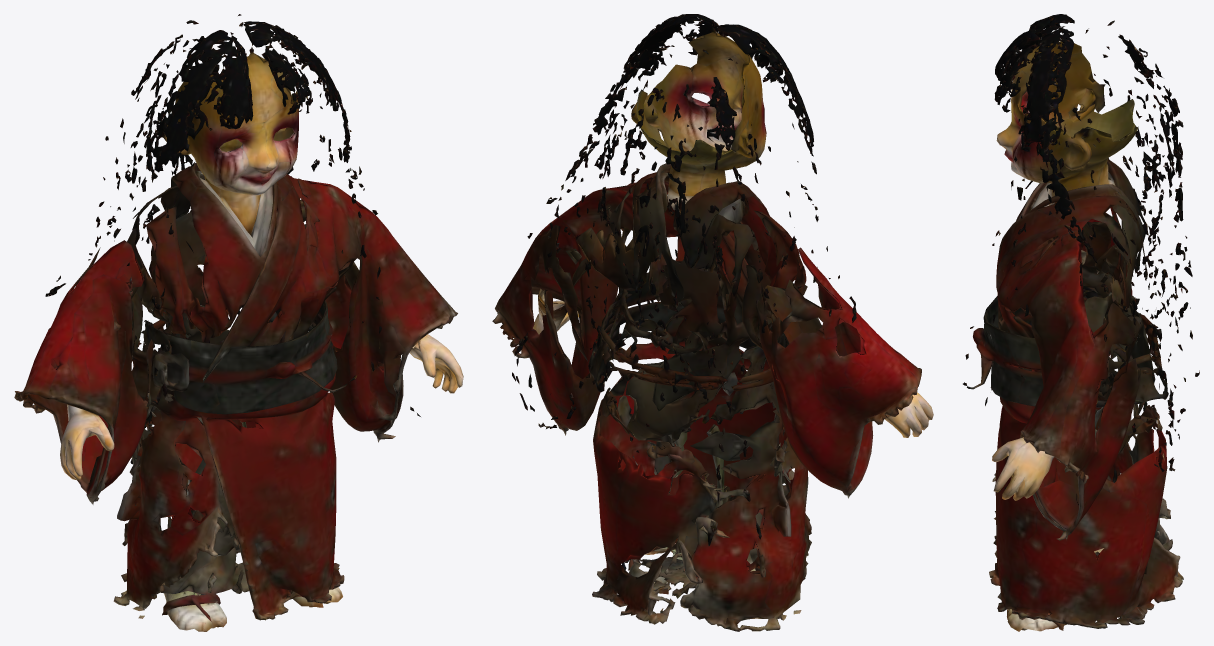
File: doll.glb
3 views of the same model, side by side, from view 1: azimuth 30°, elevation 25°; view 2: azimuth 150°, elevation 25°; view 3: azimuth 270°, elevation 25° (orthographic).
Visible parts, largest first — view 1: doll; view 2: doll; view 3: doll.
Boxes of the visible parts, x1=… form: doll: x1=14, y1=14, x2=463, y2=631; doll: x1=492, y1=14, x2=933, y2=631; doll: x1=963, y1=14, x2=1199, y2=631.
Bounding box in the file's own units: 0.7777 × 1 × 0.3787.
Materials: 1 (1 with a texture image).
